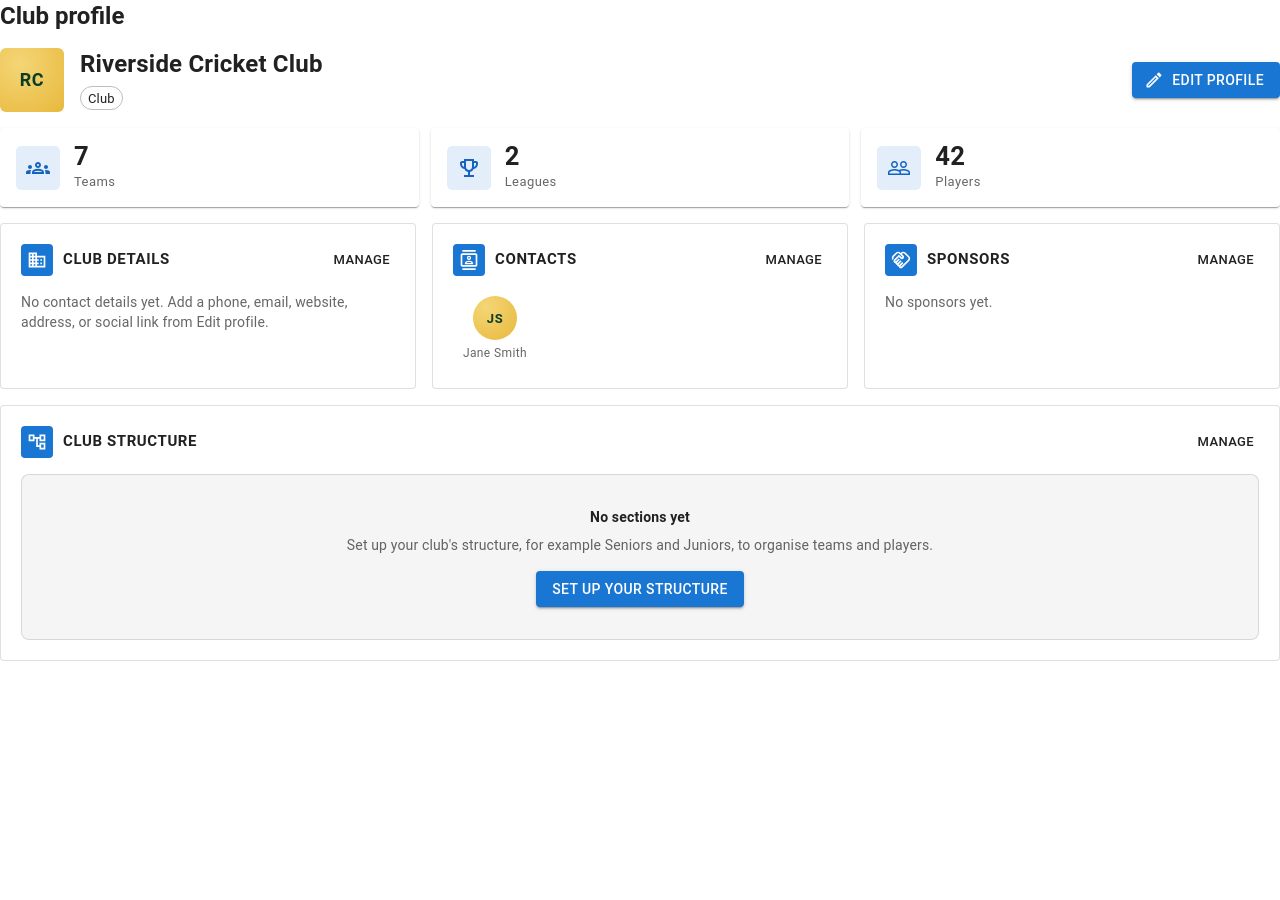
it: ClubOverviewPage › Contacts card › clicking a contact icon opens RecordQuickViewDialog with that contact's Email/Phone fields and its own edit link
Click the button with aria-label "Jane Smith — Club Secretary" at (495, 330), box [453,292,537,368]
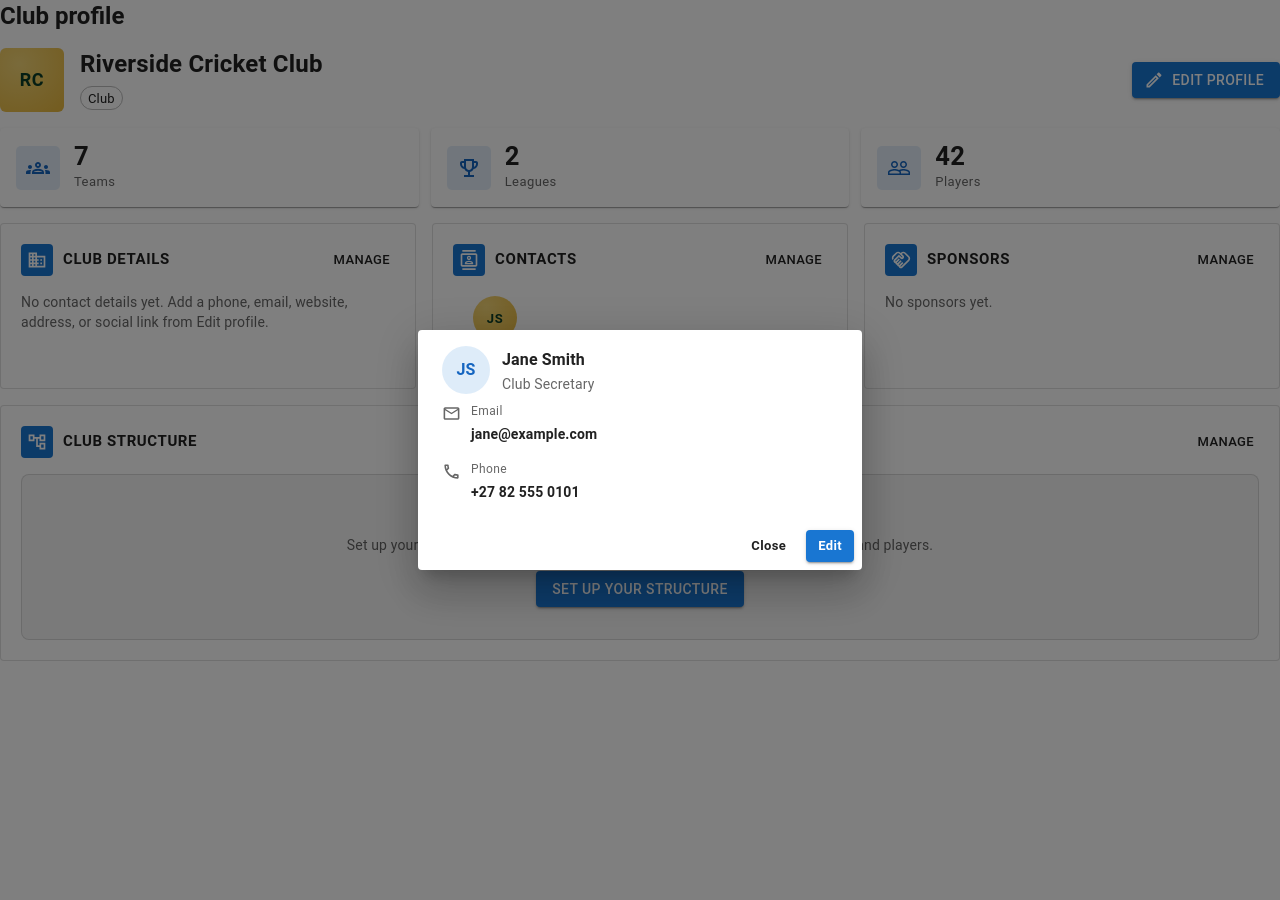
Result: the text "jane@example.com" is shown at [471,424,597,444]
Result: the text "+27 82 555 0101" is shown at [471,482,580,502]
